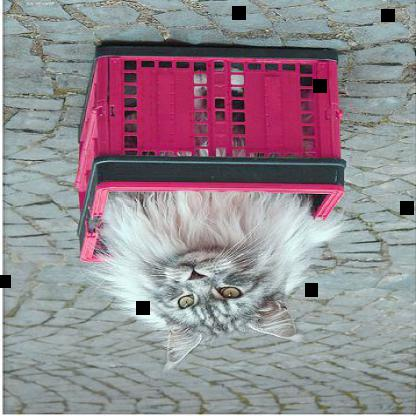cat: (108, 107, 336, 362)
